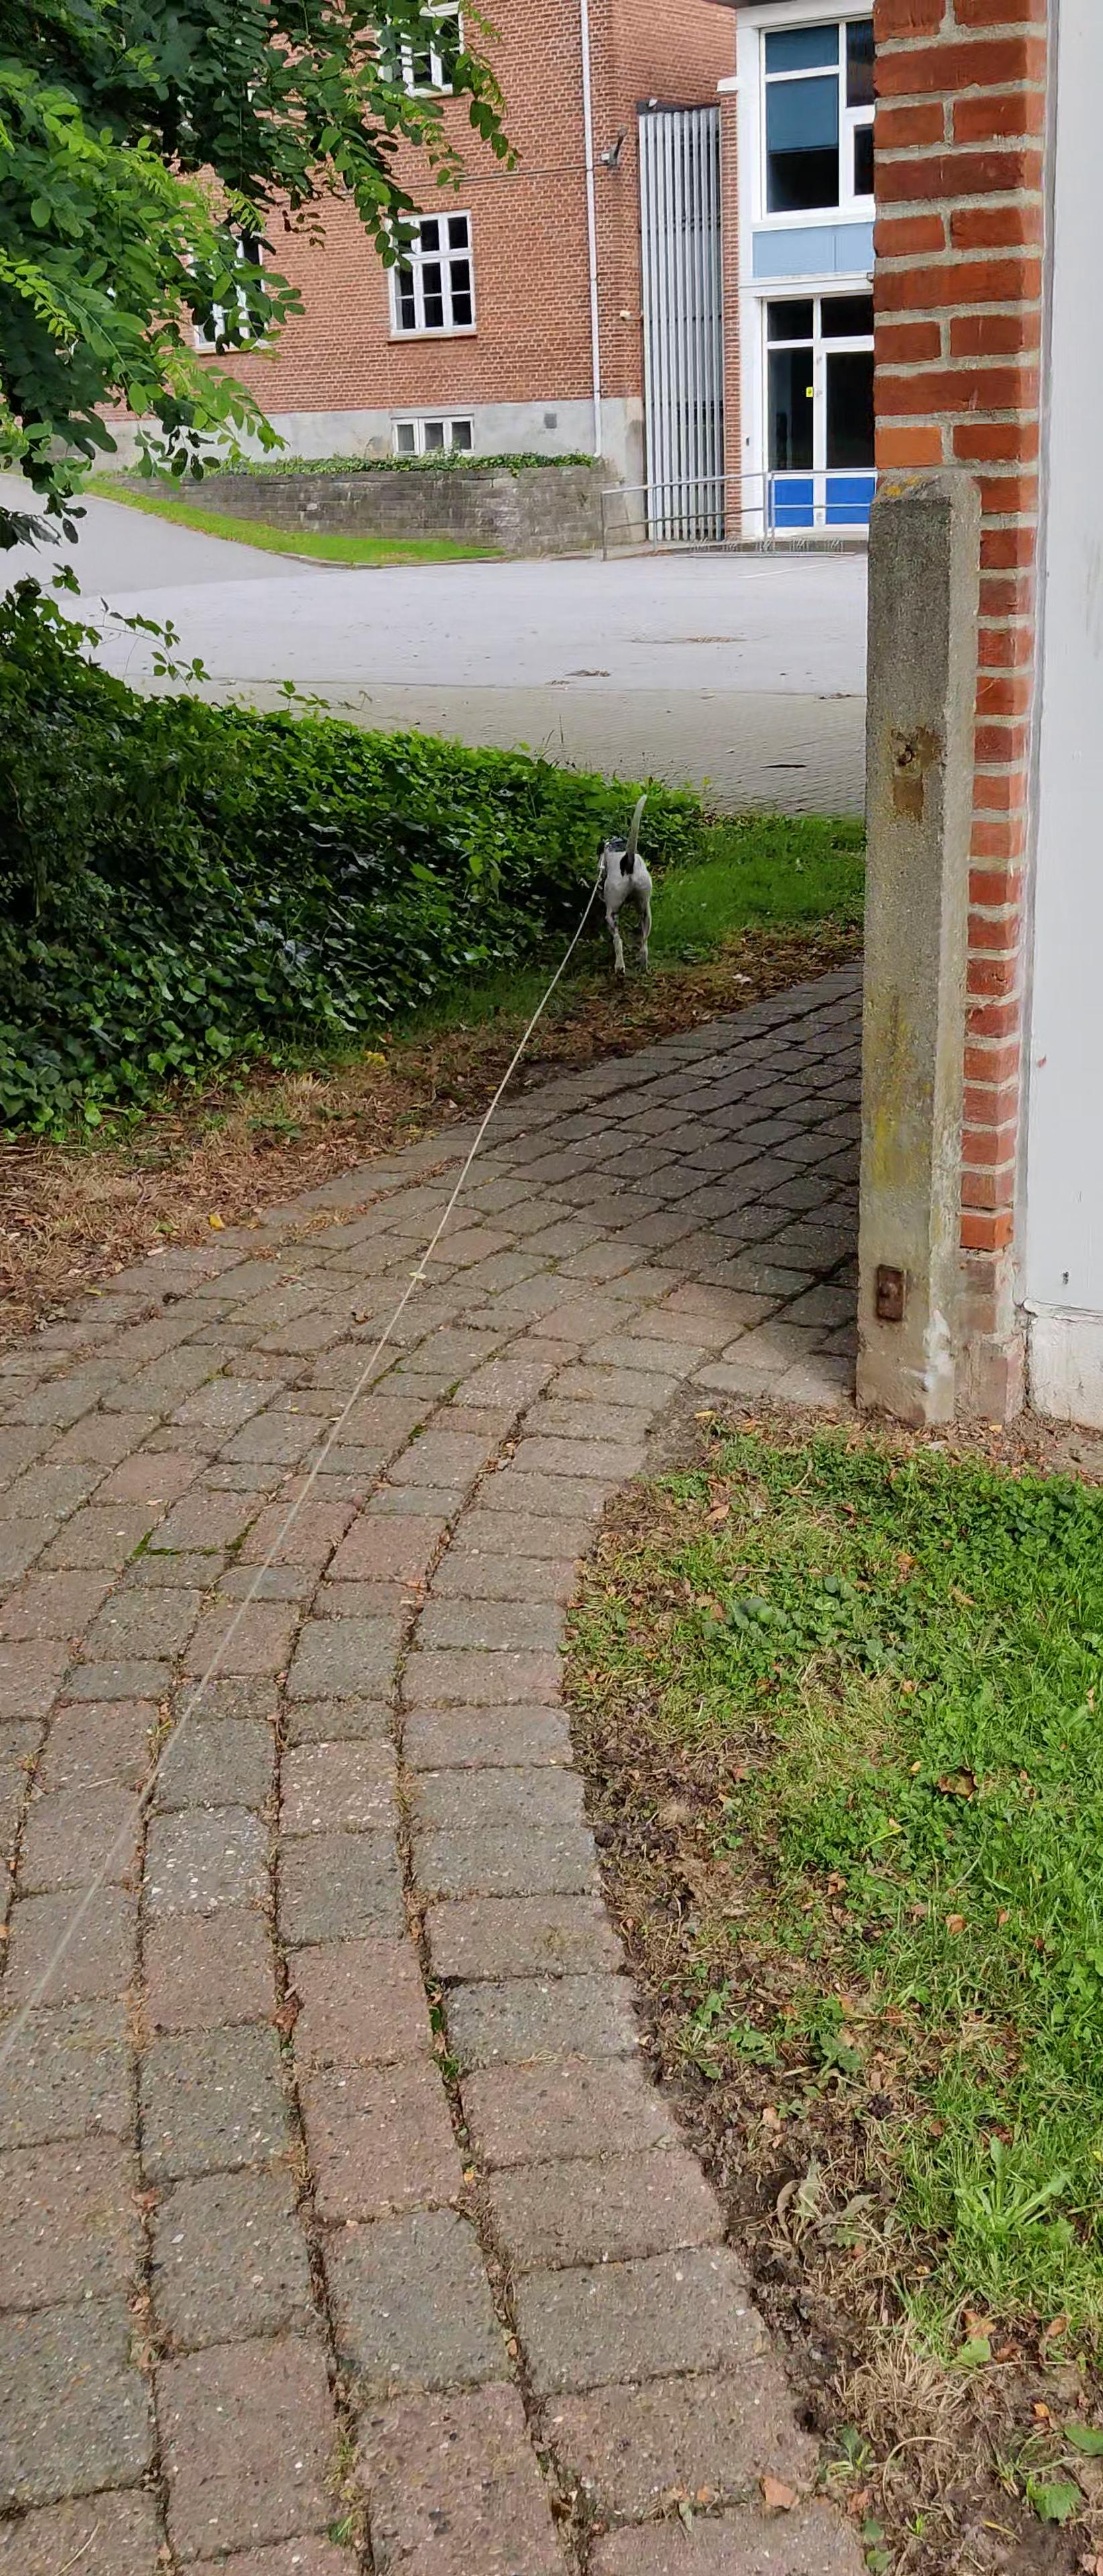Dog: (577, 790, 669, 981)
